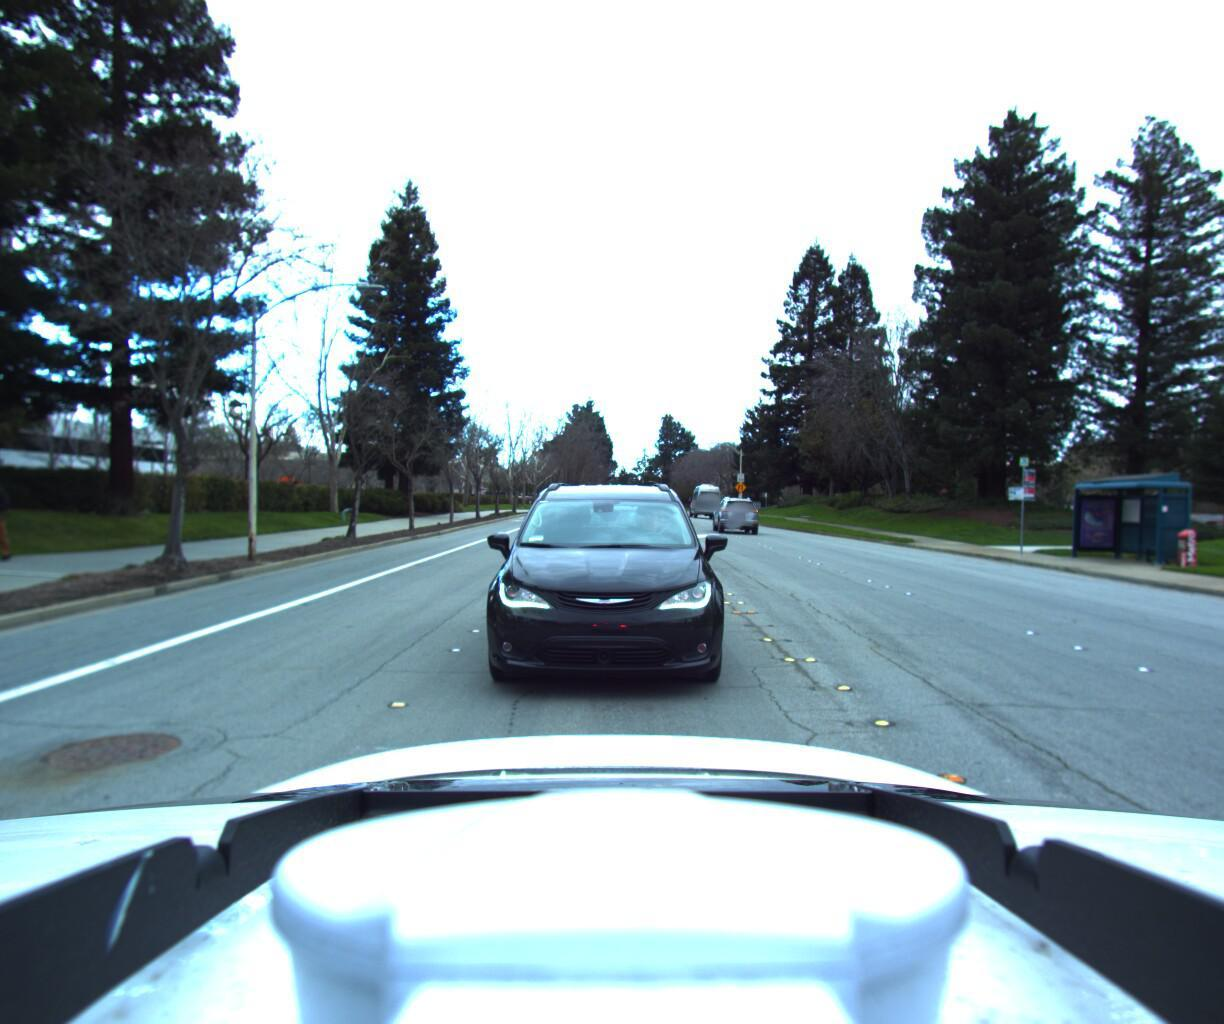car: (475, 464, 749, 714), (577, 487, 646, 551), (708, 496, 761, 532), (687, 481, 722, 516)
